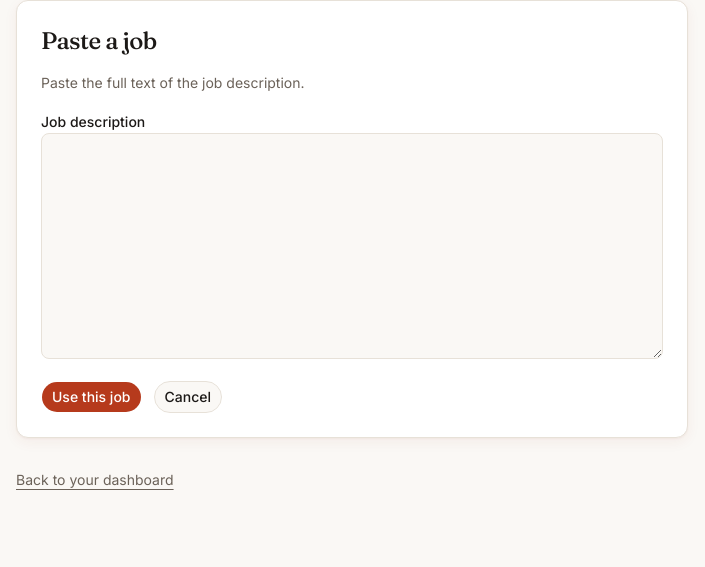
Test: PasteJob › will not send a description that is too short, and says so
In the text box labelled "Job description": (352, 246) [41, 133, 663, 359], type "too short"
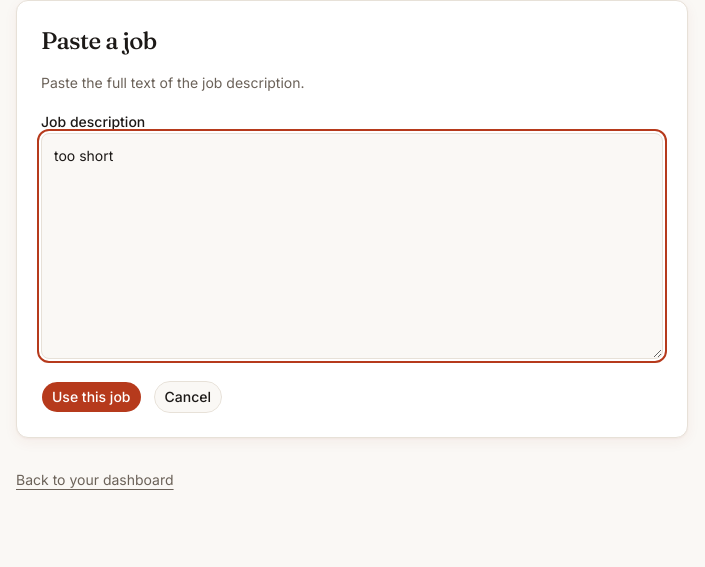
Click the button "Use this job": (91, 397) [41, 381, 142, 413]
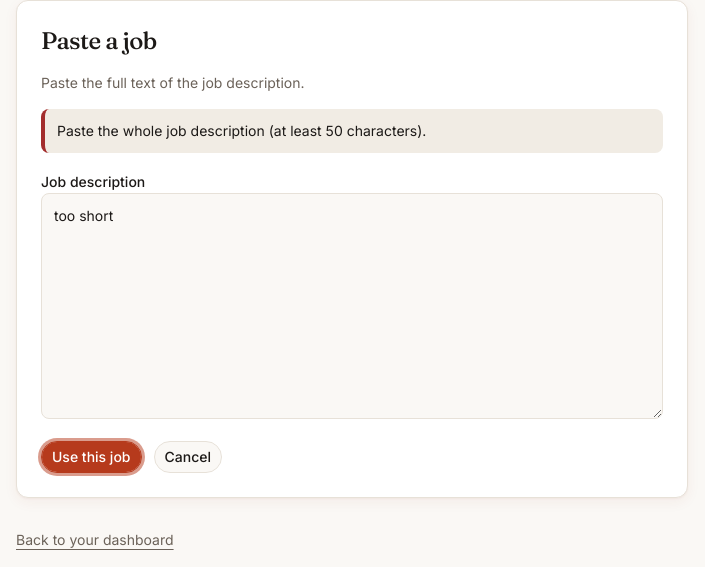
Expected: the message shows "at least 50 characters", [57, 122, 426, 139]
